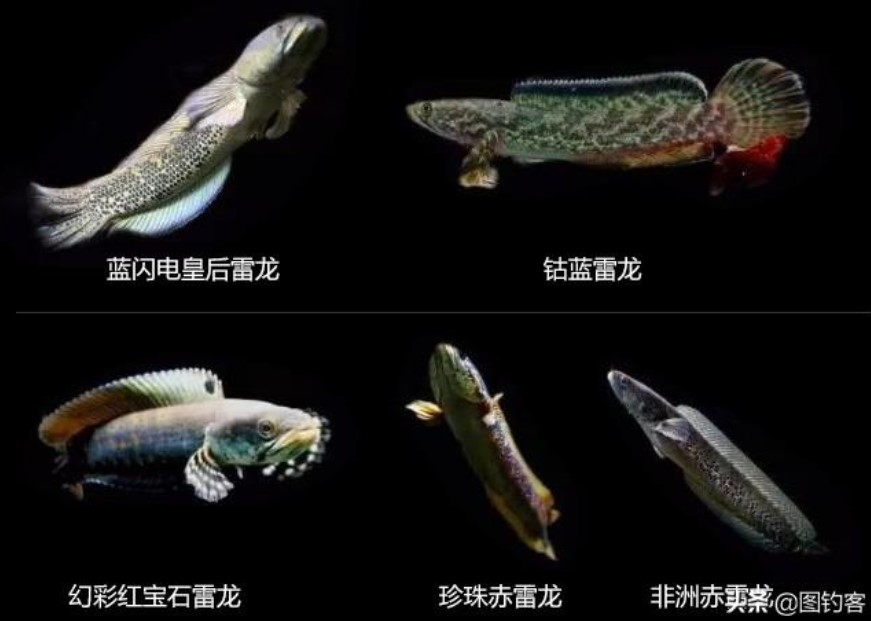Fish: (25, 12, 332, 258), (391, 50, 827, 213), (582, 340, 834, 567), (22, 350, 340, 507), (380, 336, 573, 558)
